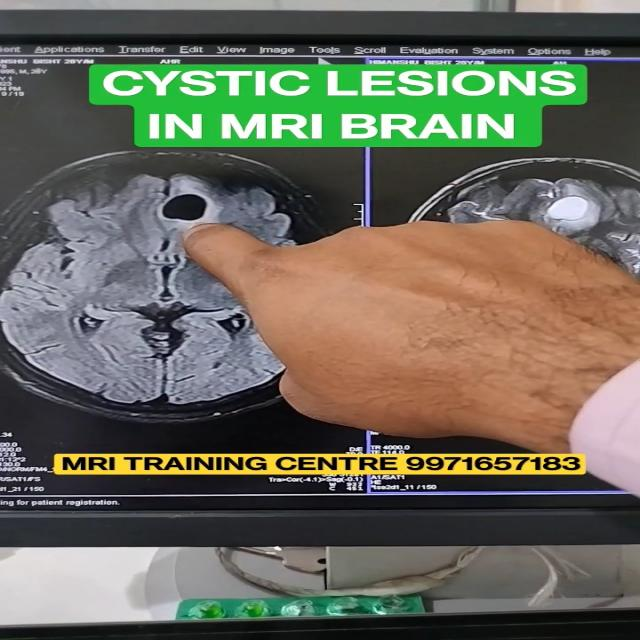tumor: (149, 184, 229, 233)
